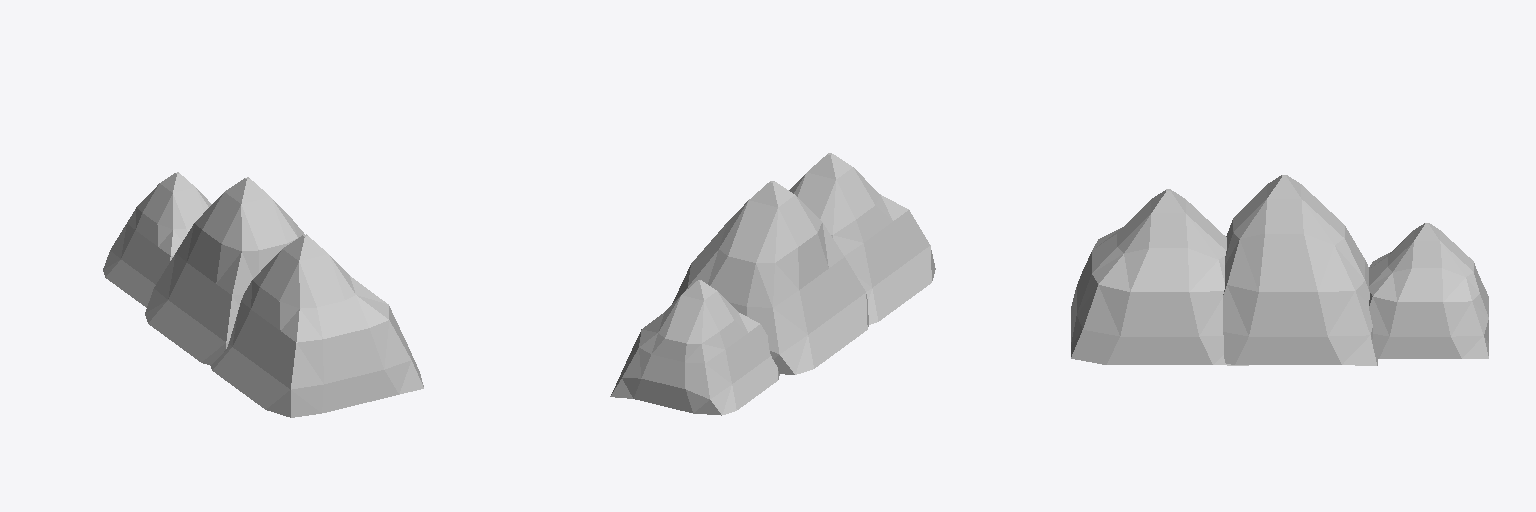
File: montanaPeque.obj
3 renders of one model, left to right at view 1: azimuth 30°, elevation 25°; view 2: azimuth 150°, elevation 25°; view 3: azimuth 270°, elevation 25°, orthographic.
Parts seen in each view (by area): view 1: MontanaGrande.002_Cube.001; view 2: MontanaGrande.002_Cube.001; view 3: MontanaGrande.002_Cube.001.
Part boxes in pixels (bbox=[...]): MontanaGrande.002_Cube.001: bbox=[103, 172, 423, 417]; MontanaGrande.002_Cube.001: bbox=[610, 153, 935, 415]; MontanaGrande.002_Cube.001: bbox=[1071, 175, 1488, 365].
Size of the model in its own units: 8.49 by 8.14 by 19.94.